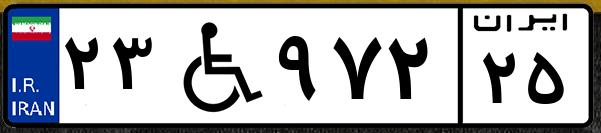2: (385, 28, 445, 110), (57, 26, 110, 100), (475, 38, 525, 113)
3: (110, 28, 158, 98)
5: (525, 38, 570, 115)
7: (330, 28, 385, 110)
9: (270, 28, 330, 110)
ژ (معلولین و جانبازان): (158, 12, 270, 120)
